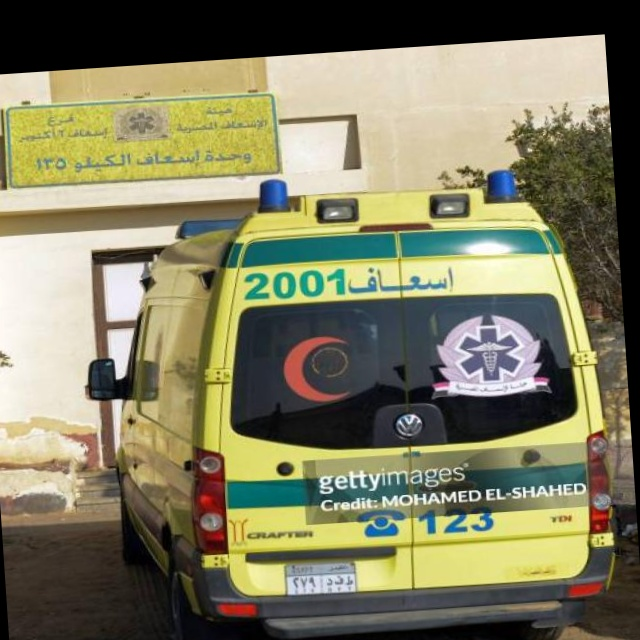Ambulance: (72, 157, 626, 640)
